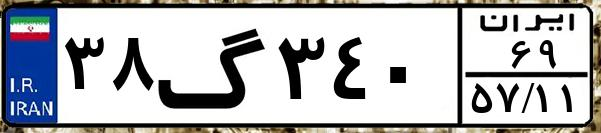0: (385, 28, 445, 110)
1: (560, 70, 590, 125), (535, 70, 560, 125)
3: (270, 28, 330, 110), (57, 26, 110, 100)
4: (330, 28, 385, 110)
5: (470, 70, 495, 125)
6: (508, 27, 537, 80)
7: (495, 70, 520, 125)
8: (110, 28, 156, 98)
9: (537, 27, 568, 80)
گ: (156, 12, 270, 120)
